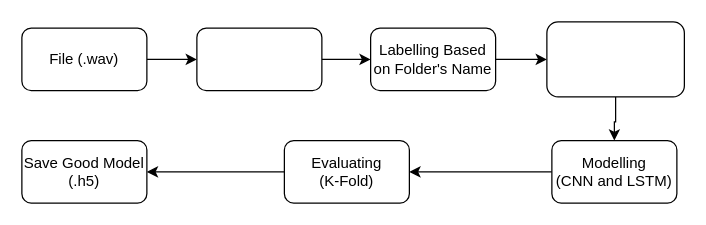
Some shapes in this 706 by 225 pixel diagram are drawn without their labels. The shapes that lost their labels are listed below. From the top down, each one's centre as x and y in pixels, then its label:
At [259,59]: "Feature Extraction (MFCC)".
At [615,59]: "Splitting and Shuffled Dataset into Train and Test".
